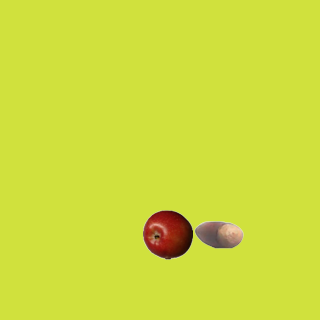Apple Braeburn: (142, 209, 192, 259)
Hazelnut: (193, 209, 243, 259)
